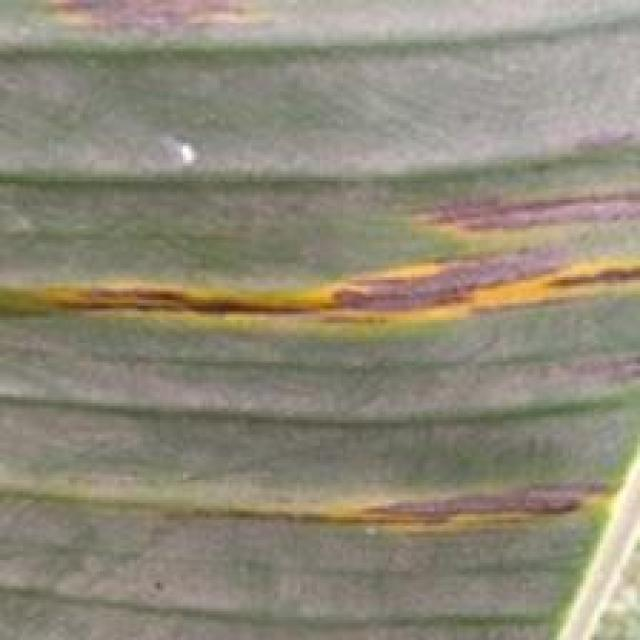Early_leaf_spot: (0, 247, 640, 331), (247, 475, 628, 544), (376, 170, 640, 236), (0, 0, 293, 54)
